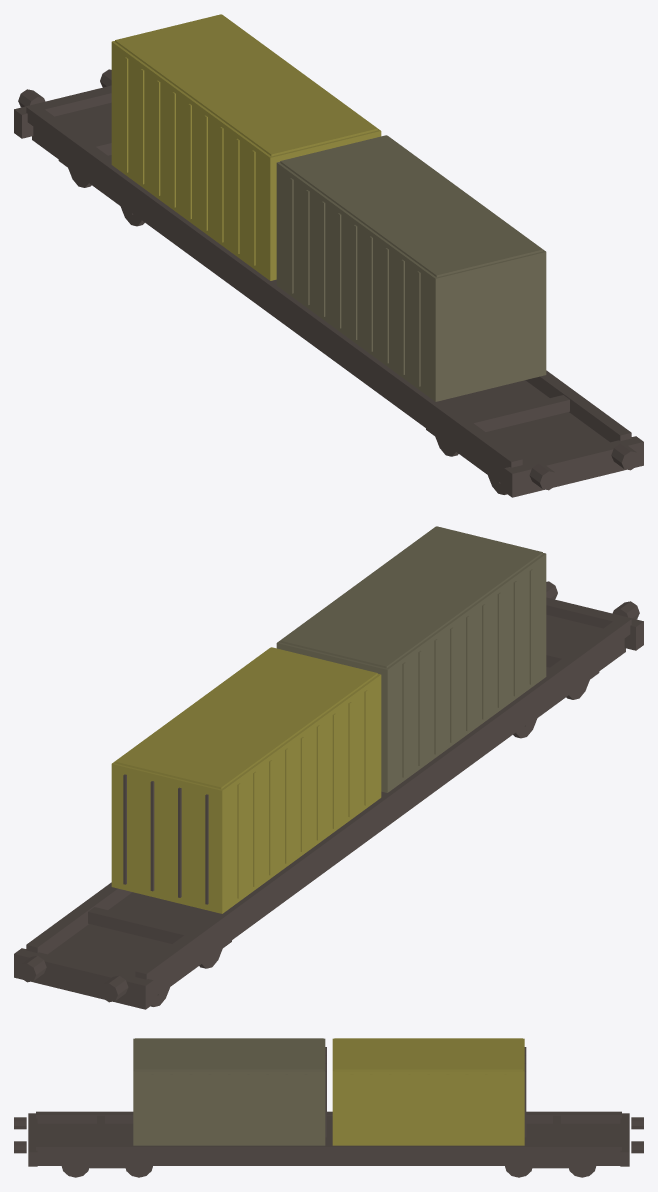
The model's file is SM_Vagon_Cercano_v5_LOD0.fbx.
3 renders of one model, top to bottom at view 1: azimuth 30°, elevation 25°; view 2: azimuth 150°, elevation 25°; view 3: azimuth 270°, elevation 25°, orthographic. The views are drawn at different scales.
Parts seen in each view (by area): view 1: SM_bloques.vagon_cercano_v5_LOD0; view 2: SM_bloques.vagon_cercano_v5_LOD0; view 3: SM_bloques.vagon_cercano_v5_LOD0.
Boxes of the visible parts, x1,y1,x2,y2 form: SM_bloques.vagon_cercano_v5_LOD0: (14,14,643,497); SM_bloques.vagon_cercano_v5_LOD0: (14,526,643,1009); SM_bloques.vagon_cercano_v5_LOD0: (14,1038,643,1177).
Bounding box in the file's own units: 2.9 × 3.9 × 19.9.
